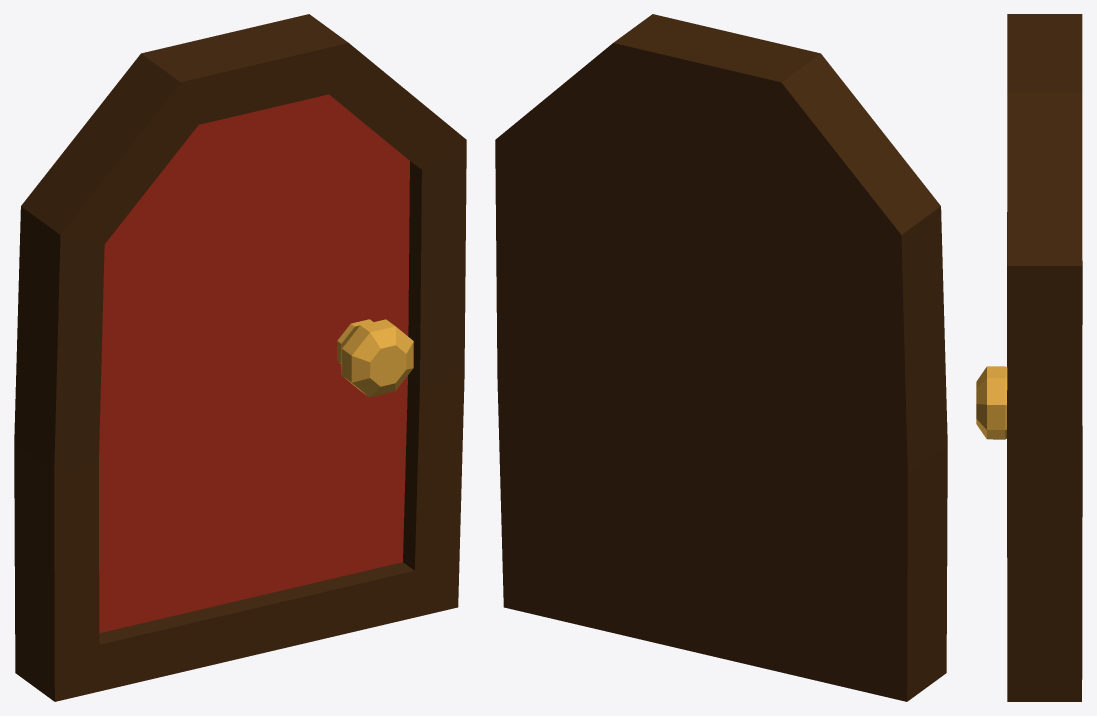
The model's file is RatSpawner1.fbx.
3 renders of one model, left to right at view 1: azimuth 30°, elevation 25°; view 2: azimuth 150°, elevation 25°; view 3: azimuth 270°, elevation 25°, orthographic. The views are drawn at different scales.
Visible parts, largest first — view 1: RatSpawner1; view 2: RatSpawner1; view 3: RatSpawner1.
Boxes of the visible parts, x1,y1,x2,y2 form: RatSpawner1: (14, 14, 466, 701); RatSpawner1: (495, 14, 947, 701); RatSpawner1: (976, 14, 1082, 701).
Bounding box in the file's own units: 29.79 × 40.88 × 7.02.
